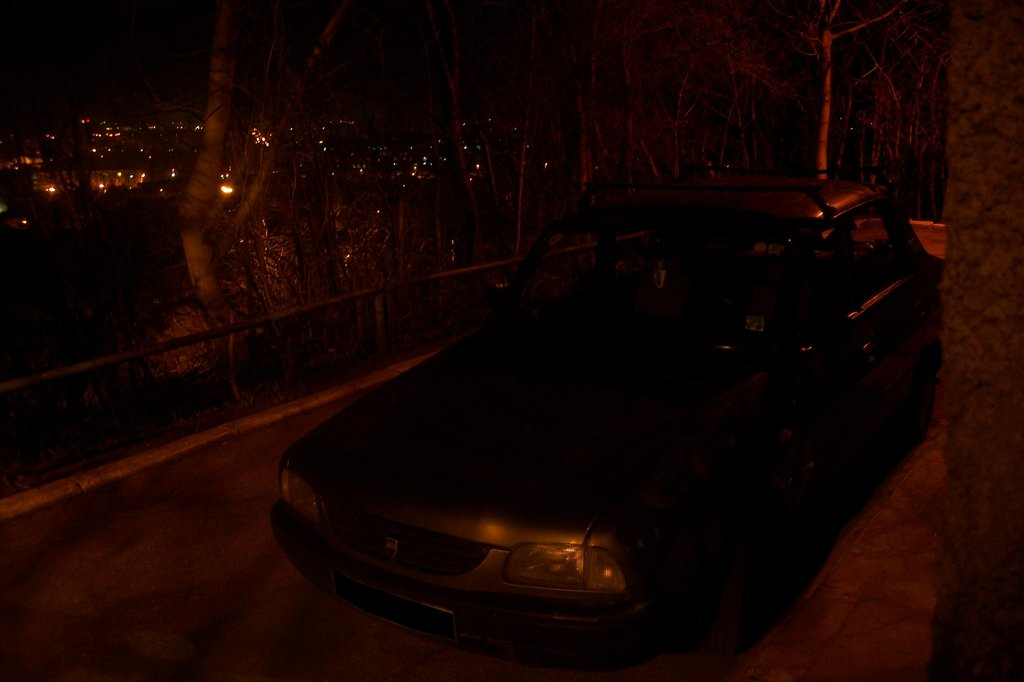car: (257, 162, 961, 677)
